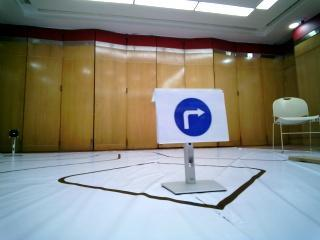right: (157, 93, 227, 137)
